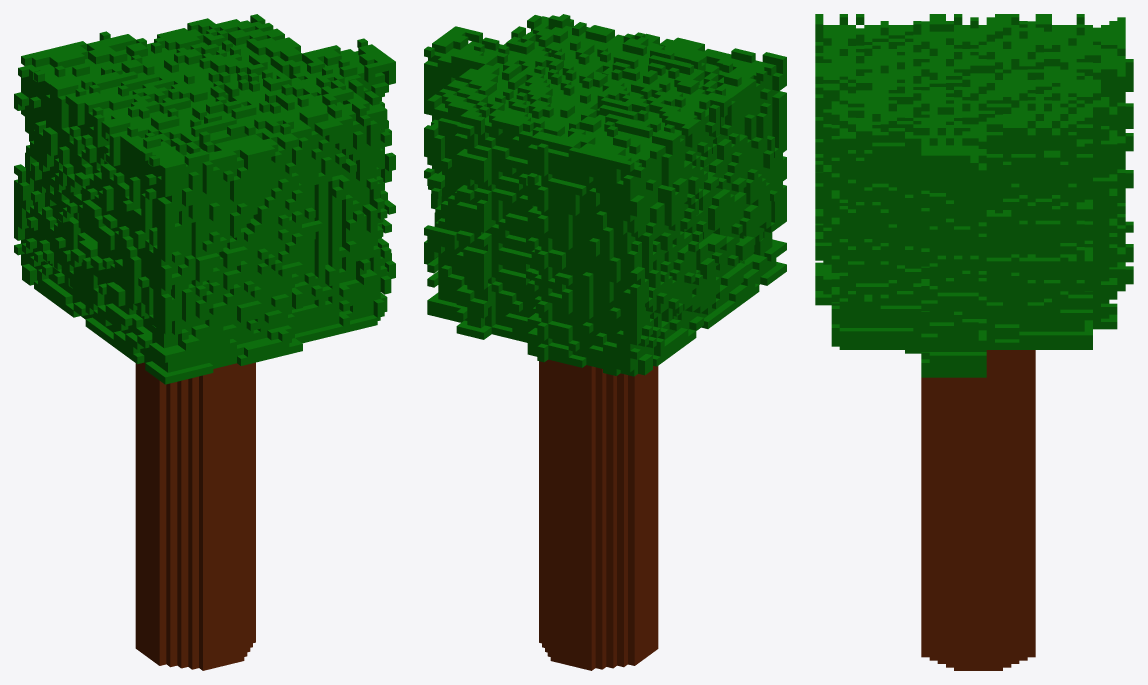
Rendered from tree.glb.
The picture shows the model from 3 angles, left to right: view 1: azimuth 30°, elevation 25°; view 2: azimuth 150°, elevation 25°; view 3: azimuth 270°, elevation 25°; orthographic projection. The views are drawn at different scales.
Visible parts, largest first — view 1: tree; view 2: tree; view 3: tree.
Boxes of the visible parts, x1,y1,x2,y2 form: tree: [14, 14, 395, 670]; tree: [424, 14, 786, 670]; tree: [815, 14, 1133, 670].
Bounding box in the file's own units: 42 × 78 × 39.
Materials: 1 (1 with a texture image).
